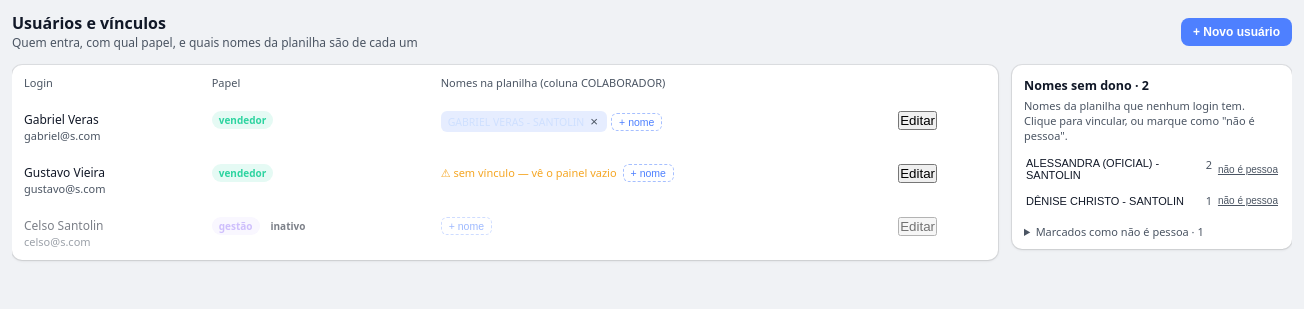
Test: Usuários e vínculos › erro 400 do vínculo aparece na tela
The image size is (1304, 309).
Check: the text "Gabriel Veras" is shown, box [24, 111, 99, 128]
Click the button "ALESSANDRA (OFICIAL) - SANTOLIN".
click(1113, 169)  # box [1026, 157, 1200, 181]
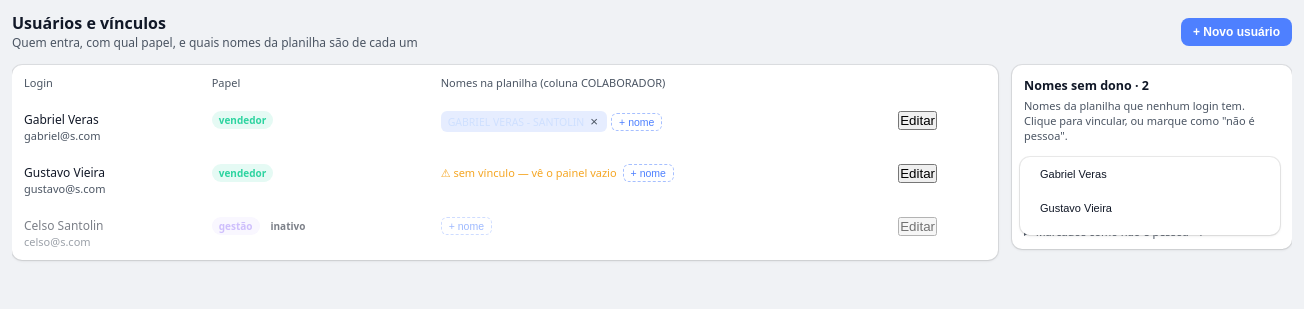
Click the button "Gabriel Veras".
click(1150, 174)  # box [1034, 163, 1266, 185]
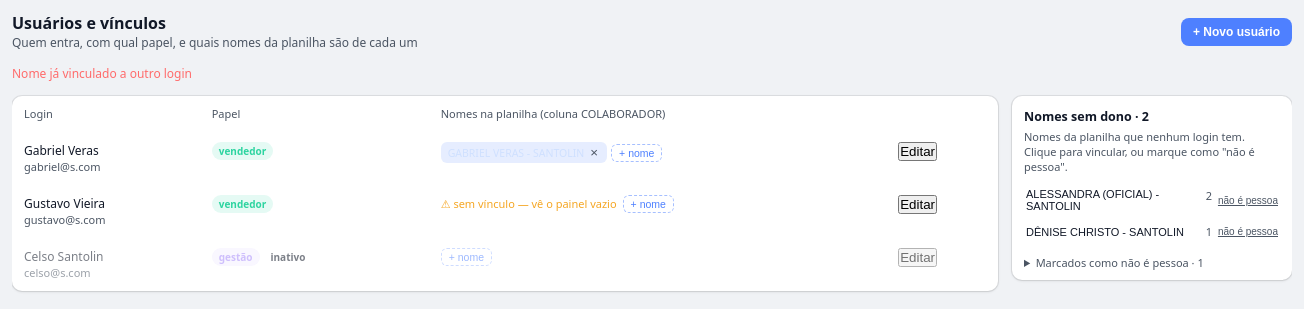
Check: the message reads "Nome já vinculado a outro login", box [12, 65, 192, 82]
